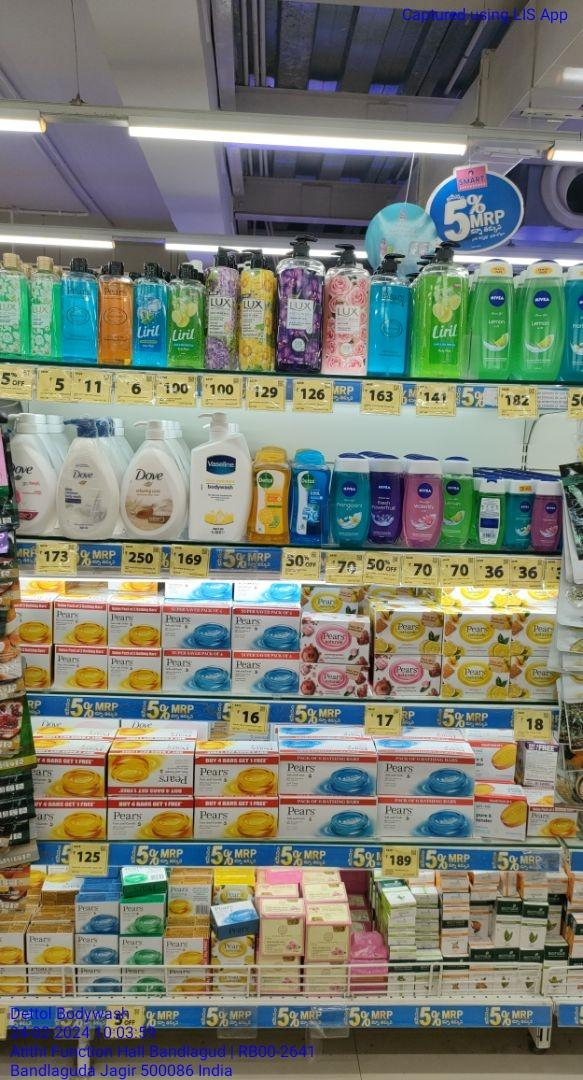Dettol_Bodywash_Cool: (290, 453, 330, 545)
Dettol_Bodywash_Refresh: (250, 449, 290, 544)
Liril_Cooling_Mint_Body_Wash_250ML: (135, 266, 169, 368)
Liril_Lime_and_Tea_Tree_Oil_Body_Wash_250ML: (168, 264, 206, 368)
Lux_Body_Wash_Skin_Detox_Freesia_Scent_and_Alove_Vera_245ML: (29, 255, 61, 360), (0, 251, 29, 360)
Nivea_Shower_Gel_Frangipani_and_Oil_250ML: (333, 455, 371, 548), (505, 476, 534, 554)
Nivea_Shower_Gel_Lemon_and_Oil_250ML: (518, 261, 565, 381), (471, 259, 516, 379), (444, 460, 476, 552)
Nivea_Shower_Gel_Waterlily_and_Oil_250ML: (404, 461, 441, 550), (534, 480, 564, 554)
Pears_Pure_Glycerin_and_Mint_Extracts_Body_Wash_250ML: (63, 258, 98, 366)
